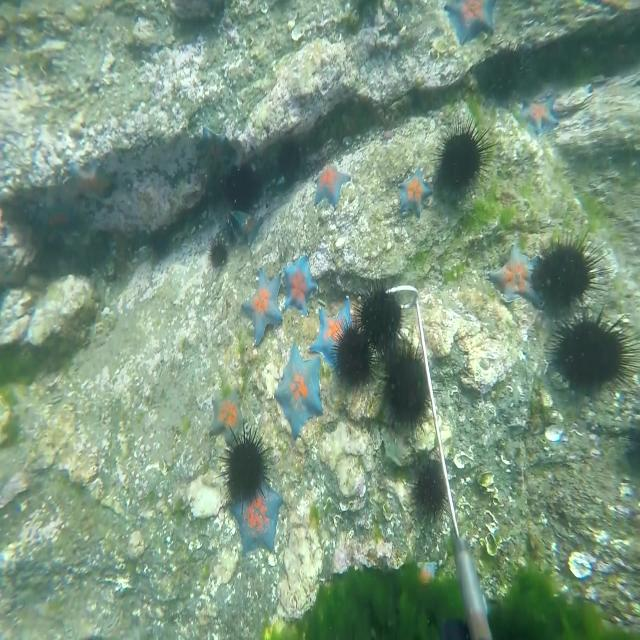echinus: (552, 306, 640, 402), (530, 223, 615, 313), (211, 427, 278, 515), (428, 111, 493, 198), (384, 346, 438, 430), (364, 278, 407, 357), (410, 452, 453, 526), (333, 322, 372, 386), (225, 164, 260, 217), (272, 136, 303, 182), (619, 413, 640, 477), (205, 228, 229, 272)
starfish: (272, 340, 322, 438), (228, 474, 283, 552), (486, 236, 540, 310), (315, 294, 363, 369), (235, 268, 282, 342), (278, 254, 323, 317), (206, 383, 246, 443), (440, 0, 494, 43), (515, 88, 559, 137), (31, 198, 81, 240), (309, 161, 352, 208), (395, 164, 433, 215), (68, 161, 109, 205), (398, 552, 437, 594), (231, 198, 262, 237)
